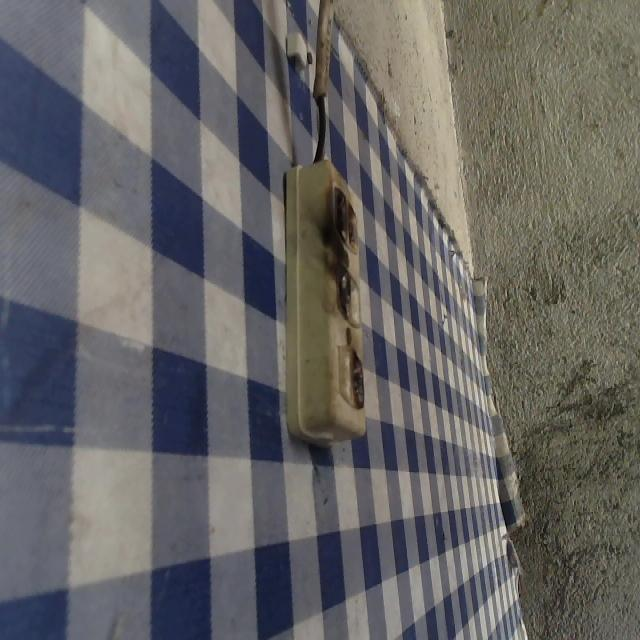-: (323, 177, 363, 256), (343, 344, 375, 413), (333, 258, 357, 326)
